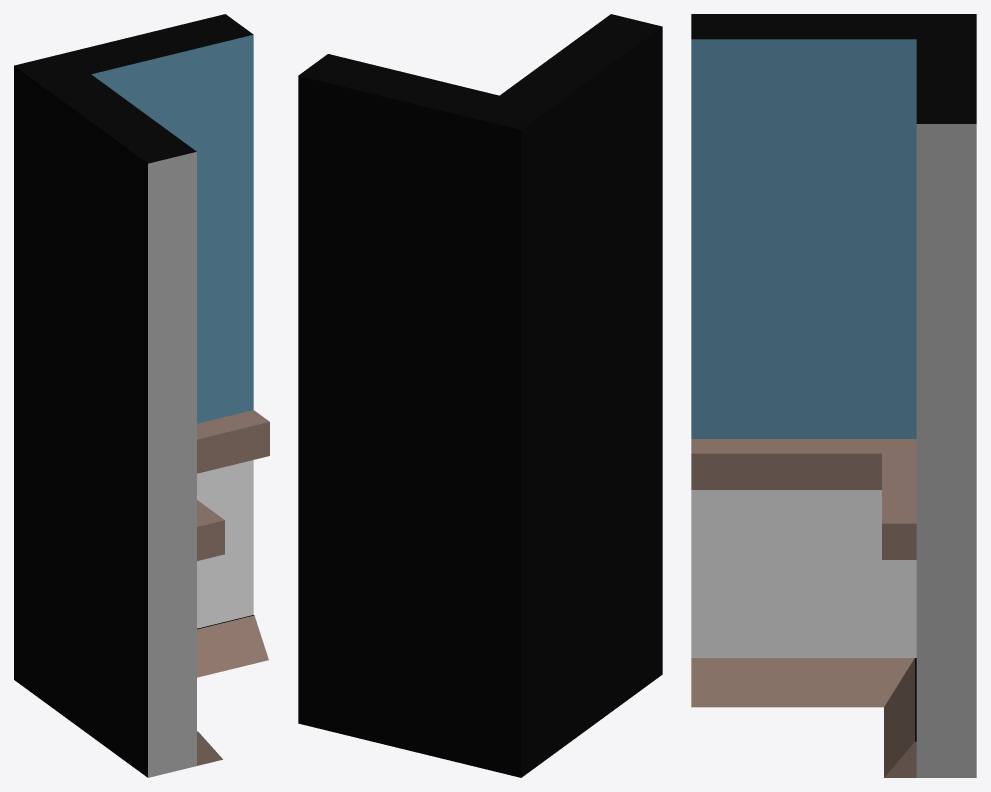
File: coin.fbx
3 views of the same model, side by side, from view 1: azimuth 30°, elevation 25°; view 2: azimuth 150°, elevation 25°; view 3: azimuth 270°, elevation 25° (orthographic). The views are drawn at different scales.
Parts seen in each view (by area): view 1: coin; view 2: coin; view 3: coin.
Part boxes in pixels (box(x1,y1,x2,y2)): coin: box(14, 14, 269, 777); coin: box(298, 14, 662, 777); coin: box(691, 14, 976, 777).
Bounding box in the file's own units: 1.08 × 3 × 1.19.
